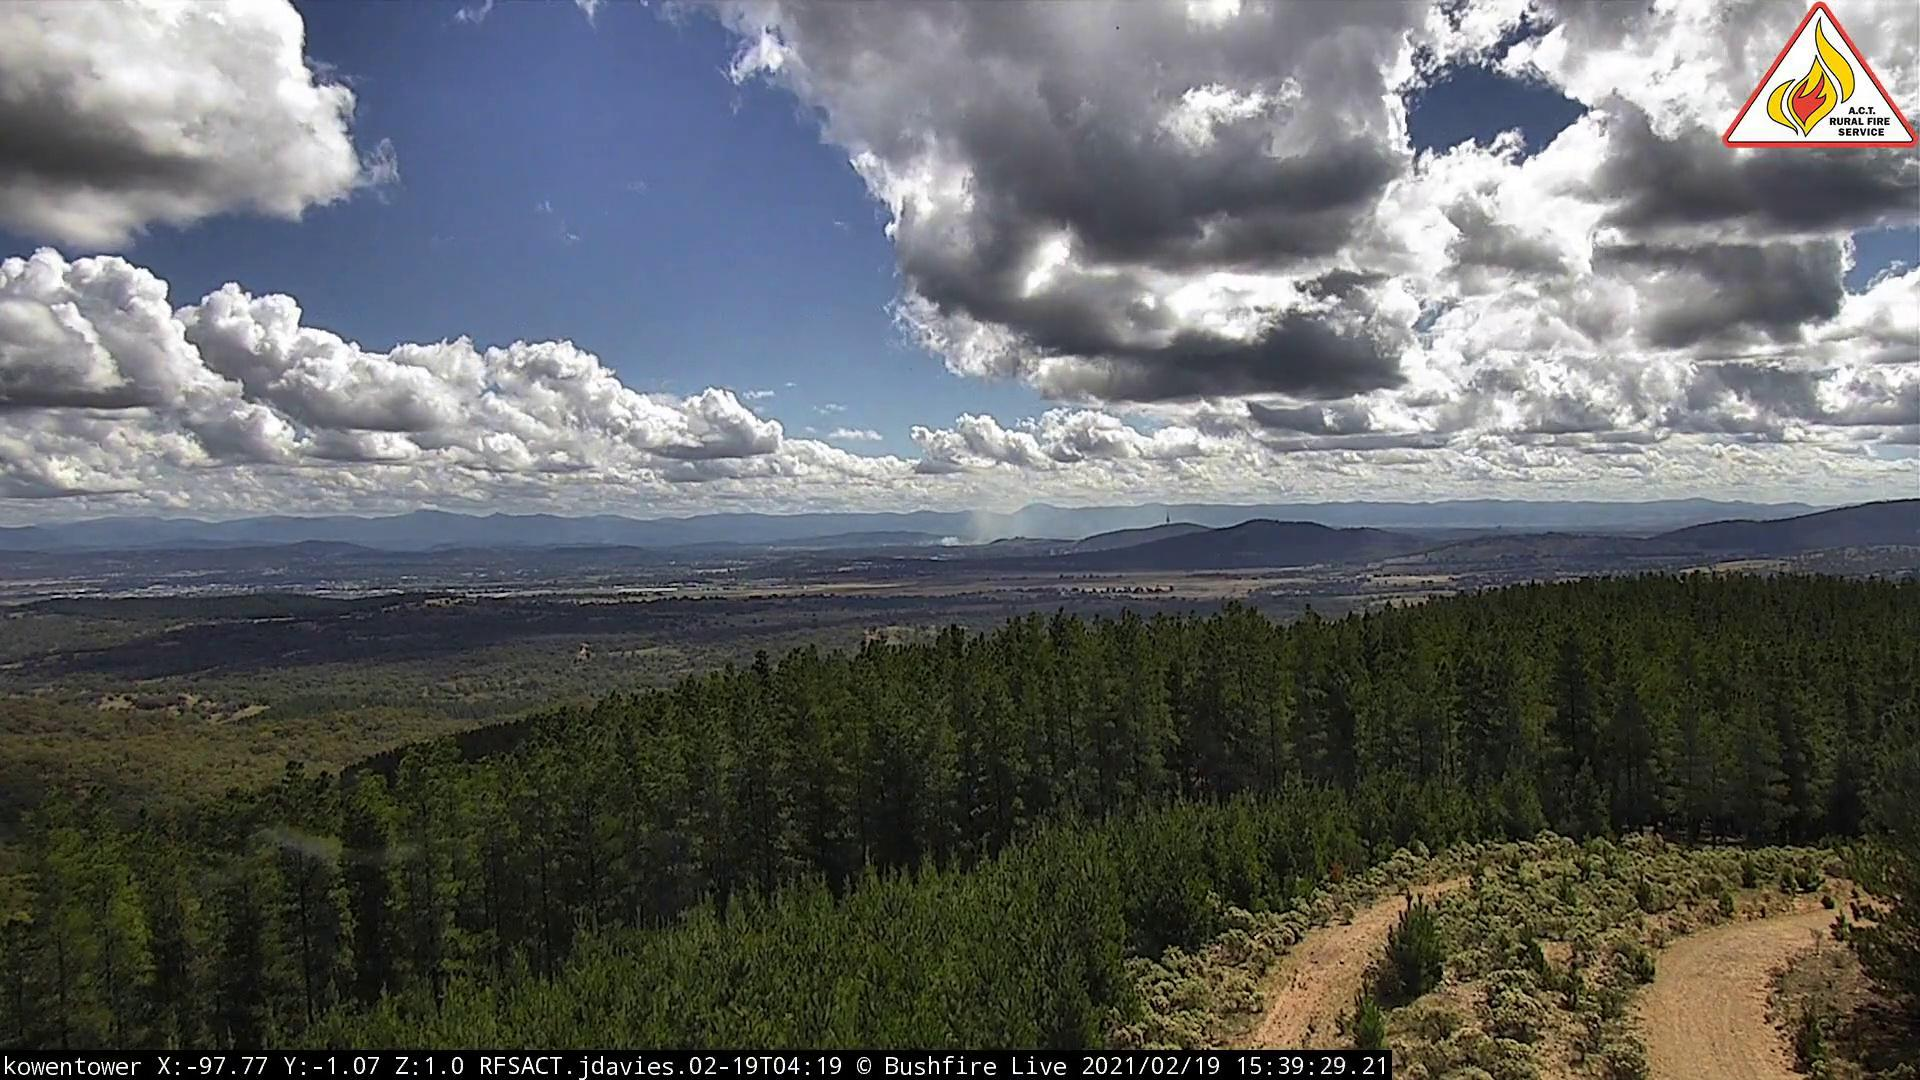Smoke: (942, 491, 1047, 553), (593, 535, 620, 554)
